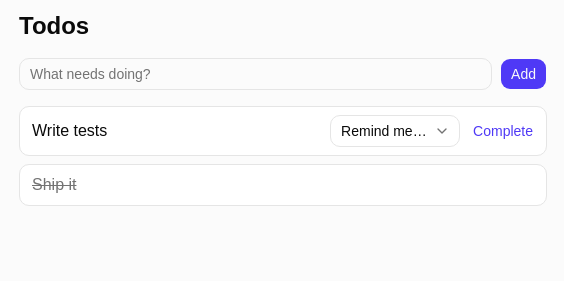
TodoList › adds a todo and shows the refreshed list
The width and height of the screenshot is (564, 281).
expect the text "Write tests" is shown: met, box [32,119,107,143]
Type "Buy milk" into the field with placeholder "What needs doing?" at [256, 74], box [19,58,492,90]
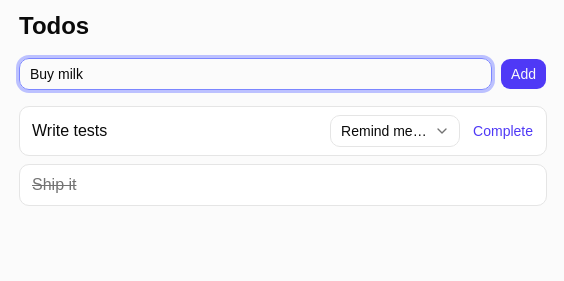
Click the button "Add" at [524, 74], box [500,58,547,90]
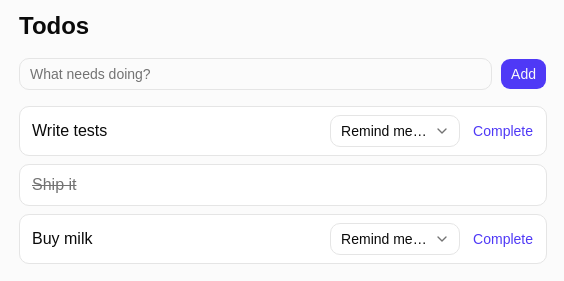
expect the text "Buy milk" is shown: met, box [32,227,92,251]
expect the field with placeholder "What needs doing?" is empty: met, box [19,58,492,90]
